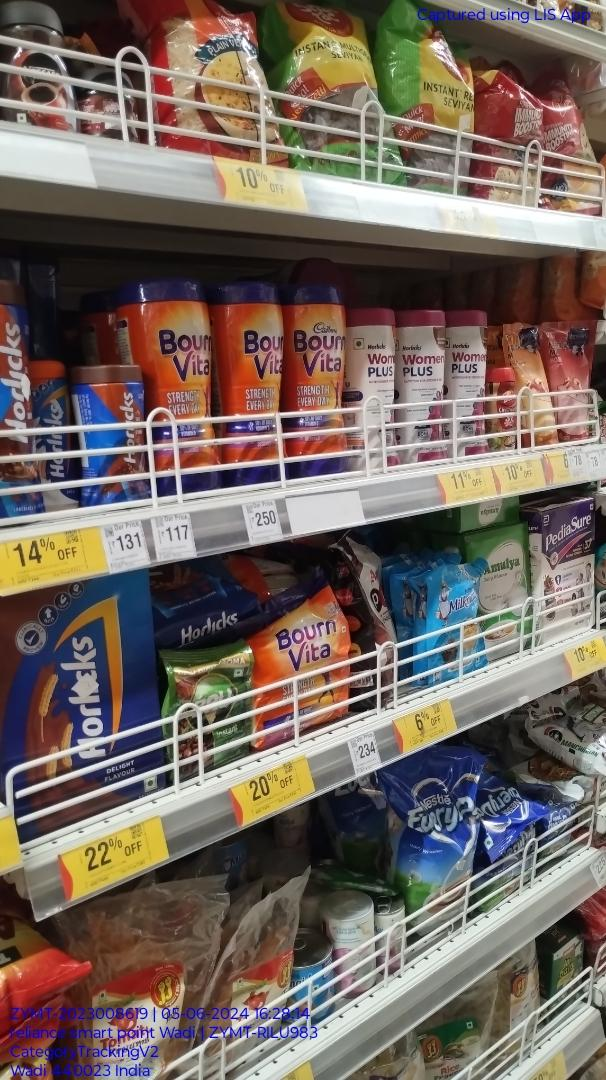BOURN_VITA_500_G_JAR: (148, 276, 216, 499), (218, 278, 285, 489), (291, 282, 350, 474)
HORLICK_CHOCOLATE_200_G_JAR: (75, 365, 144, 502)
